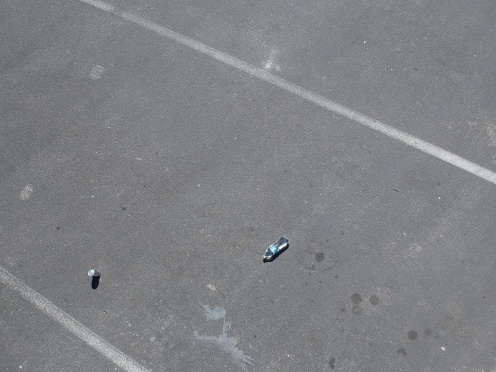bottle: (255, 230, 293, 264)
can: (84, 267, 104, 280)
